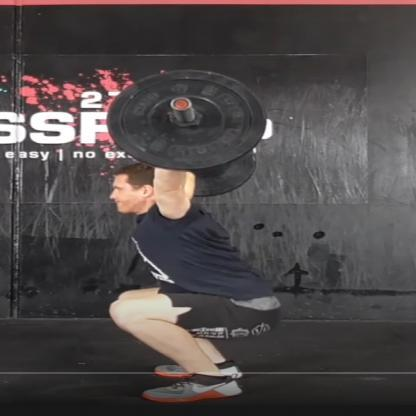Barbell: (169, 97, 196, 112)
